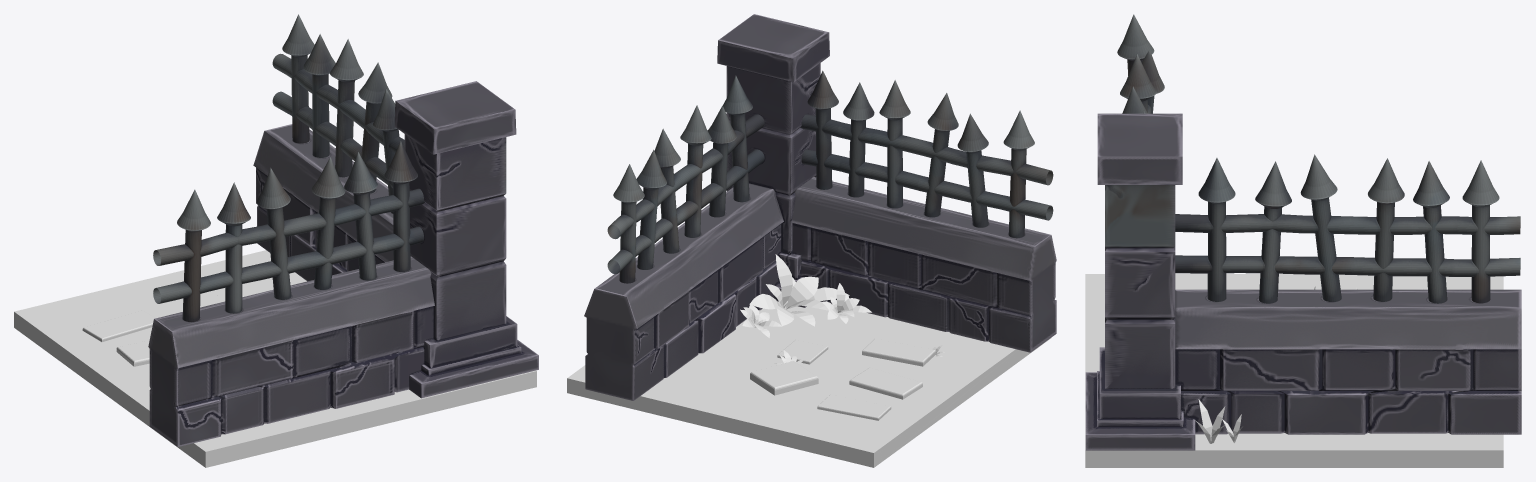
Rendered from GraveyardFenceBRCornerfbx 1.fbx.
3 views of the same model, side by side, from view 1: azimuth 30°, elevation 25°; view 2: azimuth 150°, elevation 25°; view 3: azimuth 270°, elevation 25° (orthographic). The views are drawn at different scales.
Parts seen in each view (by area): view 1: StoneFenceCorner_LP.001, CornerGround_LP; view 2: StoneFenceCorner_LP.001, CornerGround_LP; view 3: StoneFenceCorner_LP.001, CornerGround_LP.
Boxes of the visible parts, x1,y1,x2,y2 form: StoneFenceCorner_LP.001: (148, 14, 538, 446); CornerGround_LP: (14, 250, 536, 467); StoneFenceCorner_LP.001: (584, 14, 1056, 400); CornerGround_LP: (567, 254, 1050, 467); StoneFenceCorner_LP.001: (1085, 14, 1521, 450); CornerGround_LP: (1085, 274, 1503, 467).
Size of the model in its own units: 220 by 164 by 214.
